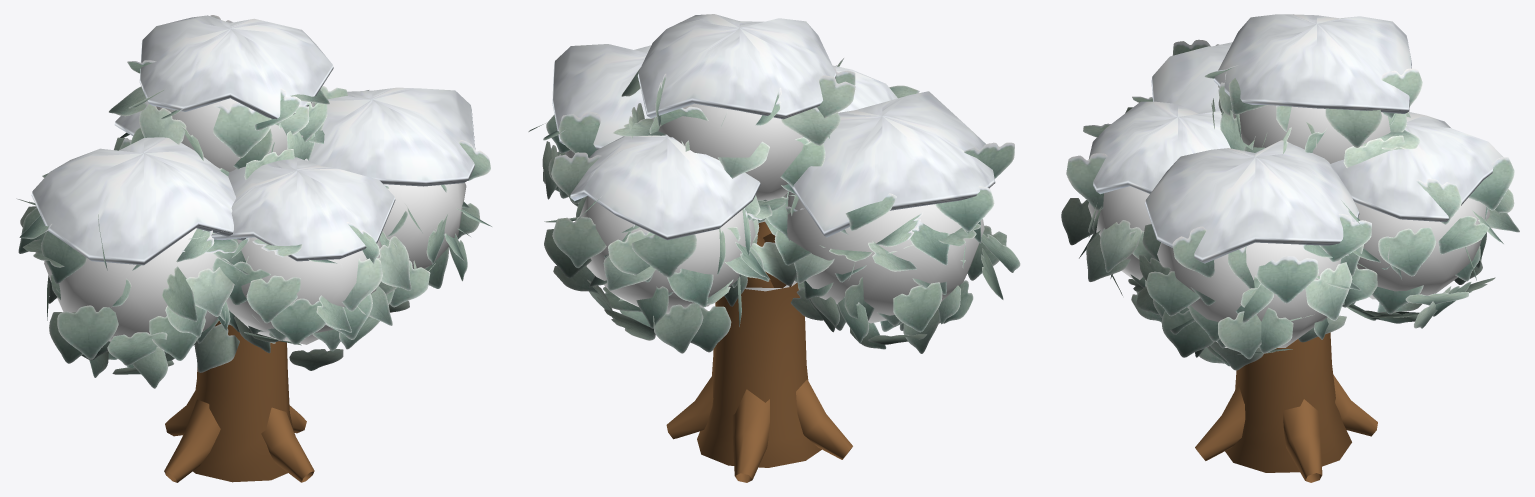
Rendered from tree-wide-winter.glb.
3 views of the same model, side by side, from view 1: azimuth 30°, elevation 25°; view 2: azimuth 150°, elevation 25°; view 3: azimuth 270°, elevation 25° (orthographic). The views are drawn at different scales.
Parts seen in each view (by area): view 1: Crown, Hull, Trunk; view 2: Crown, Hull, Trunk; view 3: Crown, Hull, Trunk.
Boxes of the visible parts, x1,y1,x2,y2 form: Crown: [16, 15, 491, 388]; Hull: [44, 98, 466, 344]; Trunk: [164, 321, 314, 482]; Crown: [528, 14, 1020, 353]; Hull: [565, 103, 984, 323]; Trunk: [666, 222, 852, 482]; Crown: [1061, 14, 1519, 370]; Hull: [1088, 105, 1490, 347]; Trunk: [1195, 332, 1377, 482].
Size of the model in its own units: 3.63 by 3.22 by 3.18.
Materials: 4 (1 with a texture image).
